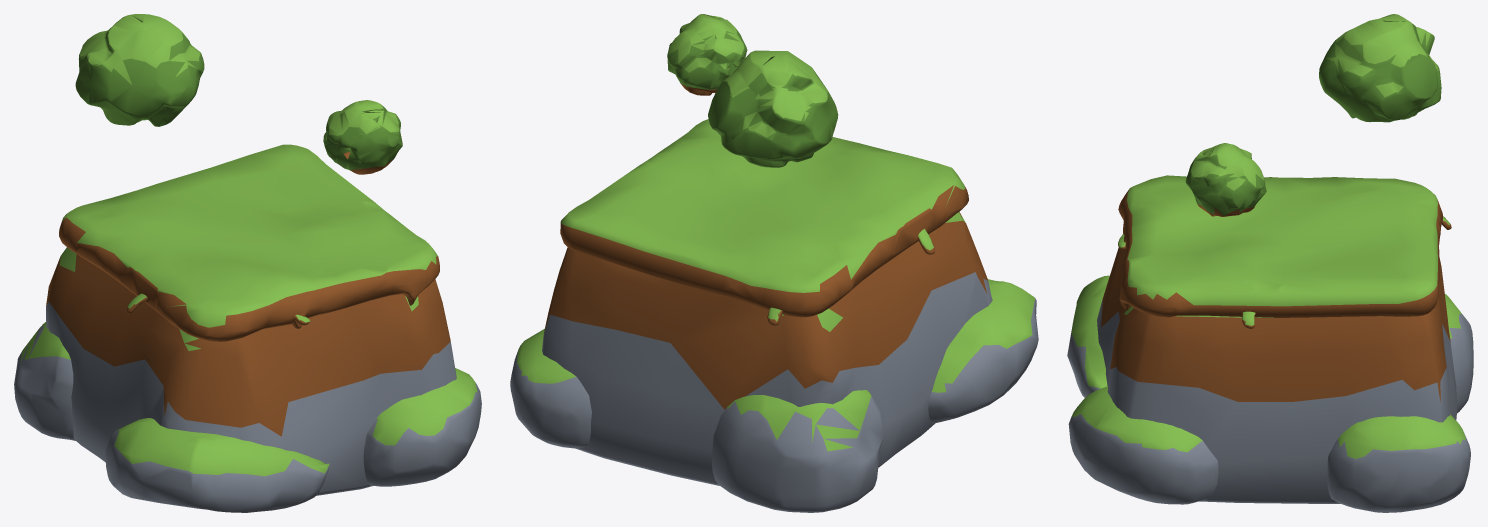
Rendered from SM_bob_map_island_land2.glb.
3 views of the same model, side by side, from view 1: azimuth 30°, elevation 25°; view 2: azimuth 150°, elevation 25°; view 3: azimuth 270°, elevation 25° (orthographic). The views are drawn at different scales.
Parts seen in each view (by area): view 1: SM_bob_map_island_land2; view 2: SM_bob_map_island_land2; view 3: SM_bob_map_island_land2.
Part boxes in pixels (box(x1,y1,x2,y2)): SM_bob_map_island_land2: box(14, 14, 481, 512); SM_bob_map_island_land2: box(510, 14, 1038, 512); SM_bob_map_island_land2: box(1067, 14, 1473, 512).
Bounding box in the file's own units: 5.73 × 6 × 5.57.
Materials: 1 (1 with a texture image).
